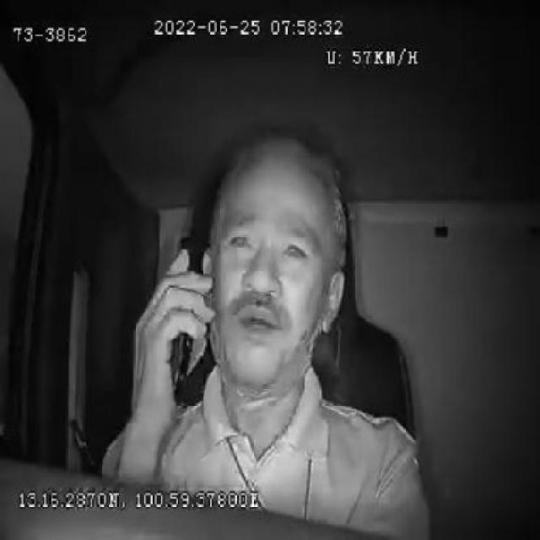phone: (167, 230, 200, 411)
